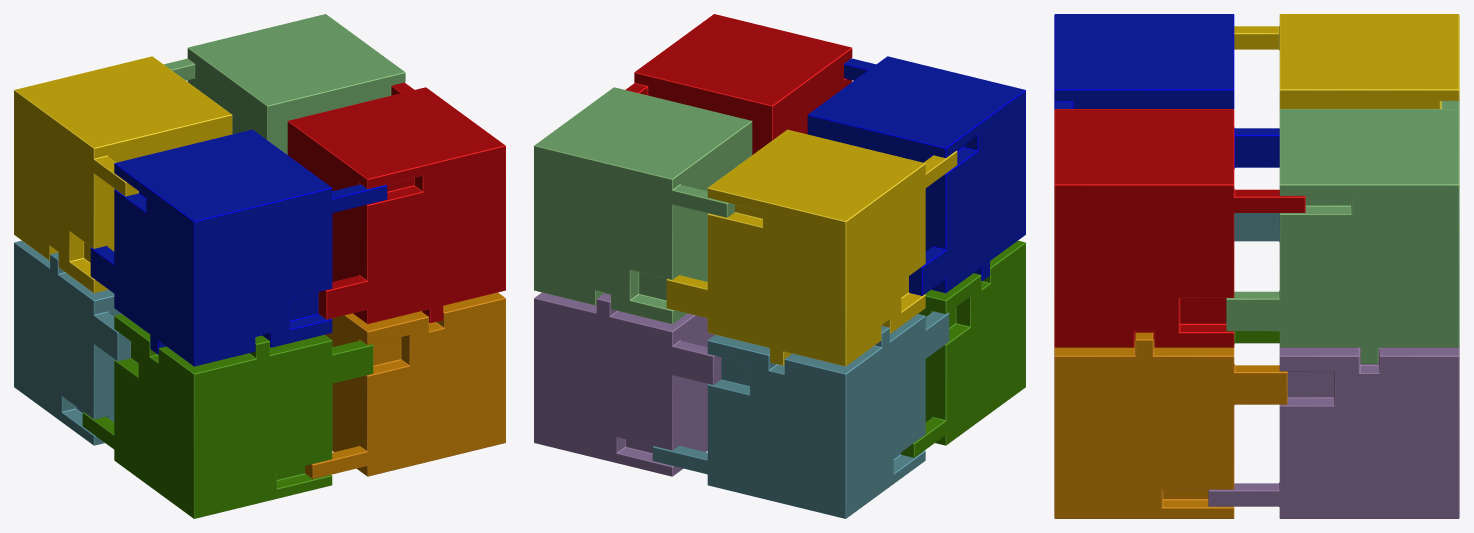
The model's file is rep-tile_1_cube.glb.
3 views of the same model, side by side, from view 1: azimuth 30°, elevation 25°; view 2: azimuth 150°, elevation 25°; view 3: azimuth 270°, elevation 25° (orthographic). The views are drawn at different scales.
Parts seen in each view (by area): view 1: Cube3, Cube1, Cube5, Cube4, Cube7, Cube2, Cube6; view 2: Cube4, Cube2, Cube6, Cube3, Cube8, Cube1, Cube5; view 3: Cube2, Cube1, Cube7, Cube8, Cube3, Cube4, Cube6, Cube5.
Boxes of the visible parts, <box> form: Cube3: <box>90,129,387,366</box>; Cube1: <box>287,82,505,324</box>; Cube5: <box>82,314,373,518</box>; Cube4: <box>14,56,232,293</box>; Cube7: <box>305,292,505,478</box>; Cube2: <box>164,14,405,154</box>; Cube6: <box>14,240,130,445</box>; Cube4: <box>666,129,957,366</box>; Cube2: <box>534,87,752,324</box>; Cube6: <box>652,311,949,518</box>; Cube3: <box>807,56,1025,295</box>; Cube8: <box>534,292,721,476</box>; Cube1: <box>625,14,852,154</box>; Cube5: <box>901,240,1025,457</box>; Cube2: <box>1226,100,1459,363</box>; Cube1: <box>1054,109,1305,347</box>; Cube7: <box>1054,332,1287,518</box>; Cube8: <box>1208,347,1459,518</box>; Cube3: <box>1054,14,1279,168</box>; Cube4: <box>1234,14,1459,108</box>; Cube6: <box>1234,213,1279,242</box>; Cube5: <box>1234,331,1279,344</box>.
Bounding box in the file's own units: 4.5 × 4.1 × 4.5.
